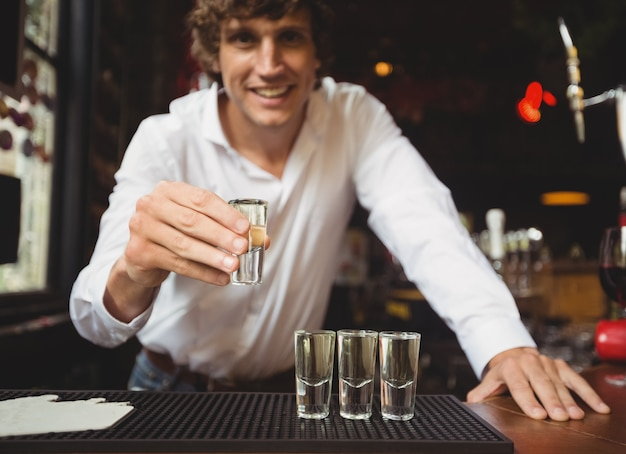alcohol: (226, 197, 271, 286), (290, 328, 332, 421), (376, 330, 418, 422), (338, 330, 378, 422)
